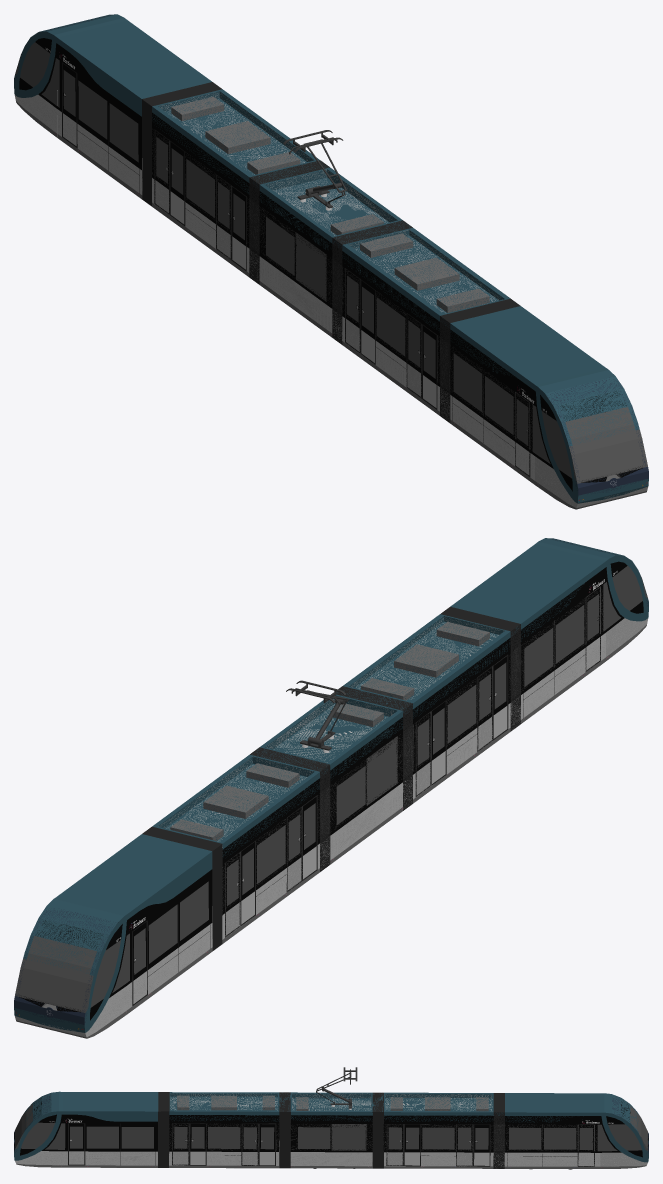
The model's file is Tramway de Bordeaux.dae.
3 views of the same model, one above another, from view 1: azimuth 30°, elevation 25°; view 2: azimuth 150°, elevation 25°; view 3: azimuth 270°, elevation 25° (orthographic). The views are drawn at different scales.
Parts seen in each view (by area): view 1: Group29, Group8, Group56, Group7, Group54, Group34, Group33, Group57, Group10, Group64, Group11, Group32 (+24 smaller); view 2: Group76, Group56, Group8, Group7, Group54, Group34, Group29, Group57, Group10, Group11, Group64, Group33 (+23 smaller); view 3: Group55, Group9, Group76, Group45, Group17, Group58, Group30, Group7, Group46, Group54, Group57, Group10 (+27 smaller).
Part boxes in pixels (x1,y1,x2,y2): Group29: (535, 367, 648, 509); Group8: (450, 323, 535, 484); Group56: (57, 37, 142, 199); Group7: (450, 306, 605, 384); Group54: (57, 20, 211, 98); Group34: (259, 185, 332, 337); Group33: (260, 167, 402, 237); Group57: (152, 89, 319, 177); Group10: (343, 227, 510, 315); Group64: (152, 106, 249, 276); Group11: (342, 245, 439, 415); Group32: (249, 160, 412, 344); Group76: (14, 896, 127, 1038); Group56: (127, 852, 212, 1013); Group8: (521, 561, 605, 723); Group7: (450, 544, 605, 623); Group54: (57, 834, 211, 913); Group34: (330, 711, 402, 864); Group29: (535, 538, 648, 660); Group57: (152, 754, 319, 846); Group10: (343, 614, 510, 703); Group11: (413, 632, 510, 803); Group64: (222, 772, 319, 943); Group33: (260, 694, 402, 764); Group55: (504, 1112, 600, 1168); Group9: (62, 1111, 157, 1167); Group76: (600, 1093, 648, 1168); Group45: (290, 1112, 372, 1168); Group17: (169, 1111, 279, 1168); Group58: (383, 1112, 493, 1168); Group30: (14, 1111, 62, 1167); Group7: (62, 1092, 158, 1111); Group46: (296, 1123, 366, 1150); Group54: (505, 1093, 600, 1112); Group57: (384, 1092, 493, 1112); Group10: (169, 1092, 279, 1111).
Size of the model in its own units: 103 by 1417 by 222.
